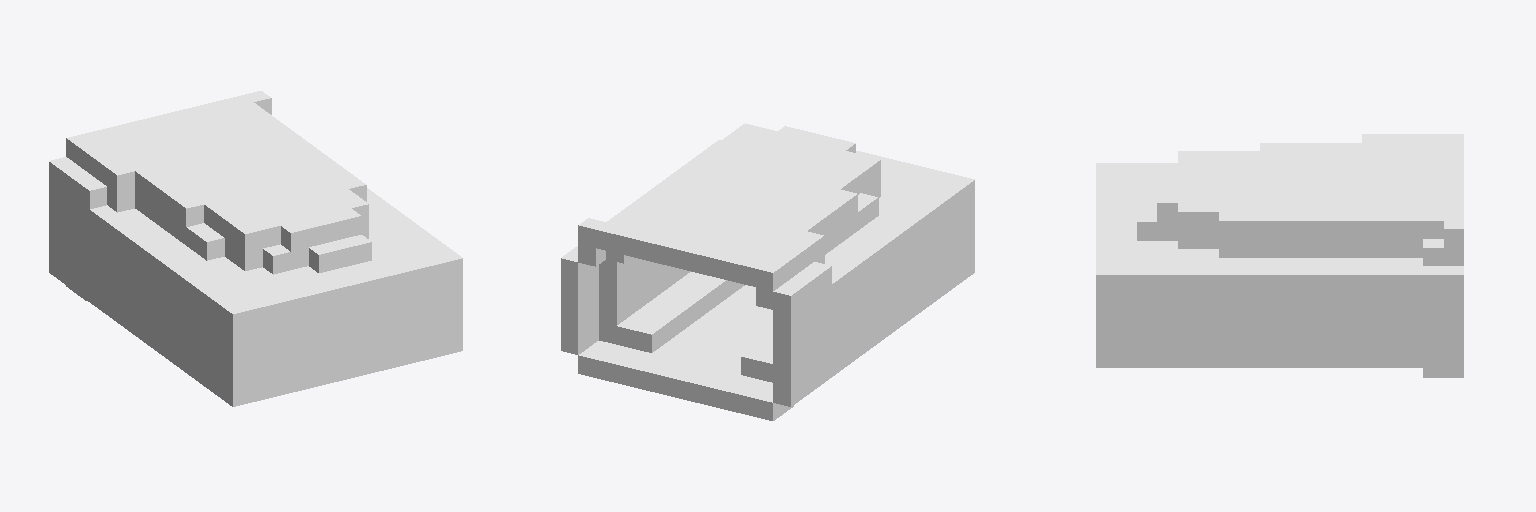
The model's file is Environment.obj.
The picture shows the model from 3 angles: view 1: azimuth 30°, elevation 25°; view 2: azimuth 150°, elevation 25°; view 3: azimuth 270°, elevation 25°; orthographic projection.
Visible parts, largest first — view 1: Minecraft_2048_3D__-6_96_-7_to_6_128_10; view 2: Minecraft_2048_3D__-6_96_-7_to_6_128_10; view 3: Minecraft_2048_3D__-6_96_-7_to_6_128_10.
Part boxes in pixels (bbox=[...]): Minecraft_2048_3D__-6_96_-7_to_6_128_10: bbox=[49, 91, 462, 406]; Minecraft_2048_3D__-6_96_-7_to_6_128_10: bbox=[561, 123, 974, 420]; Minecraft_2048_3D__-6_96_-7_to_6_128_10: bbox=[1096, 134, 1463, 377].
Size of the model in its own units: 13 by 8 by 18.